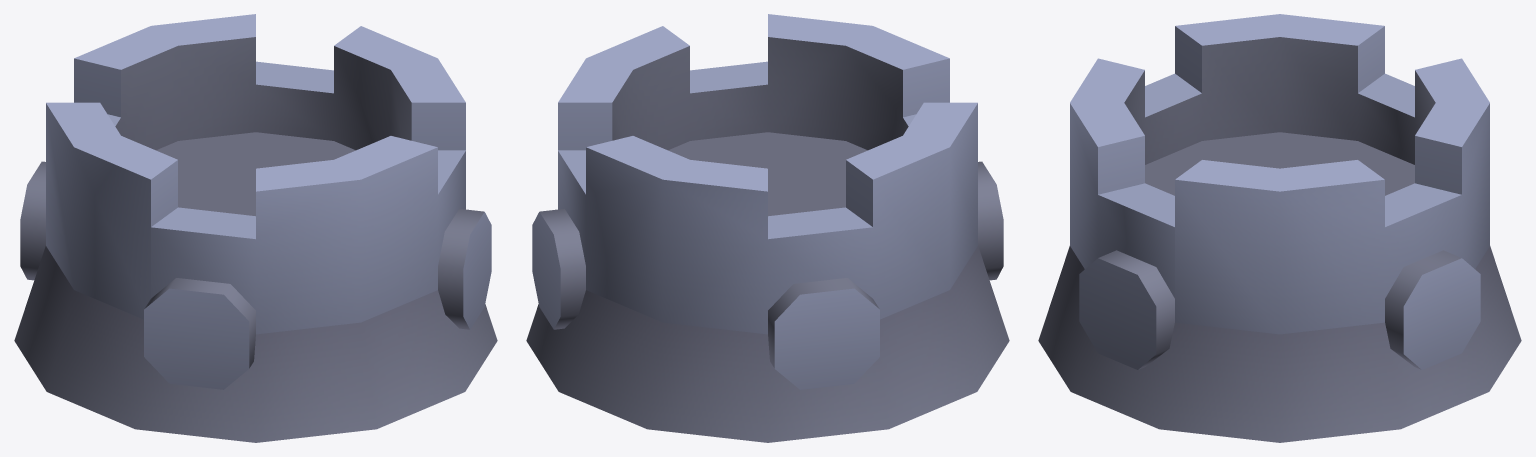
File: tower-round-top-a.fbx
3 views of the same model, side by side, from view 1: azimuth 30°, elevation 25°; view 2: azimuth 150°, elevation 25°; view 3: azimuth 270°, elevation 25° (orthographic).
Parts seen in each view (by area): view 1: tower-round-top-a; view 2: tower-round-top-a; view 3: tower-round-top-a.
Boxes of the visible parts, bbox=[...] form: tower-round-top-a: bbox=[14, 14, 497, 442]; tower-round-top-a: bbox=[526, 14, 1009, 442]; tower-round-top-a: bbox=[1038, 14, 1521, 442].
Bounding box in the file's own units: 92 × 50 × 92.
